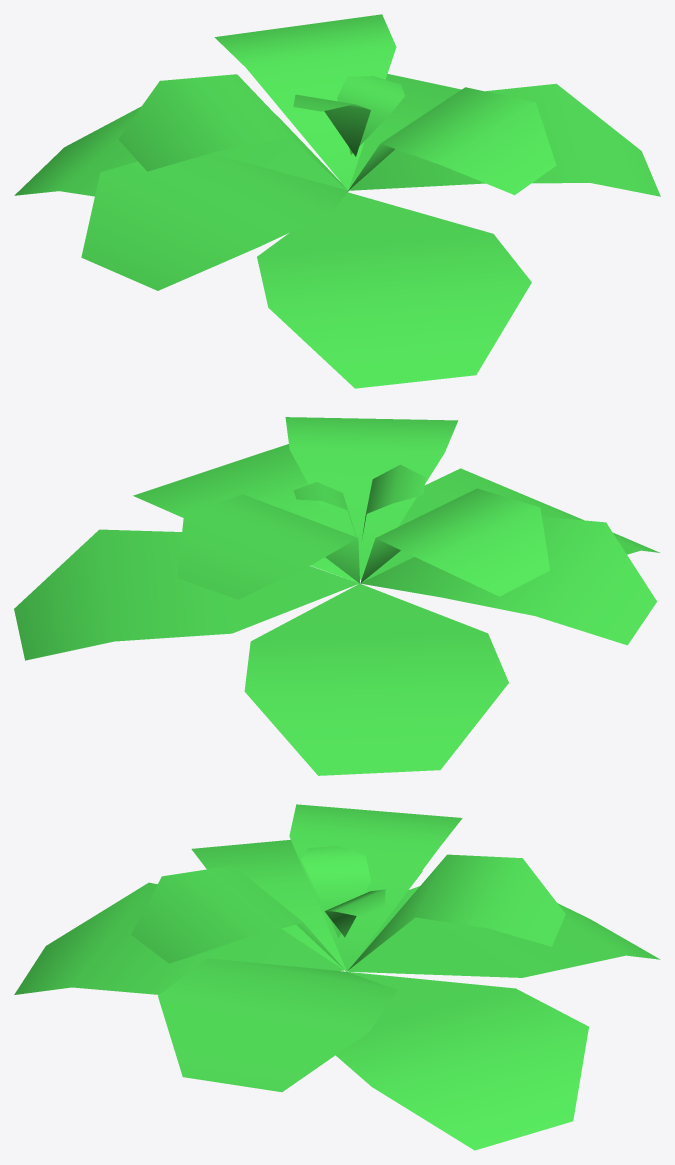
The model's file is grass.fbx.
3 views of the same model, one above another, from view 1: azimuth 30°, elevation 25°; view 2: azimuth 150°, elevation 25°; view 3: azimuth 270°, elevation 25° (orthographic). The views are drawn at different scales.
Visible parts, largest first — view 1: grass_01; view 2: grass_01; view 3: grass_01.
Part boxes in pixels (x1,y1,x2,y2): grass_01: [14, 14, 660, 388]; grass_01: [14, 417, 659, 775]; grass_01: [14, 804, 660, 1150].
Bounding box in the file's own units: 138 × 36.72 × 145.
